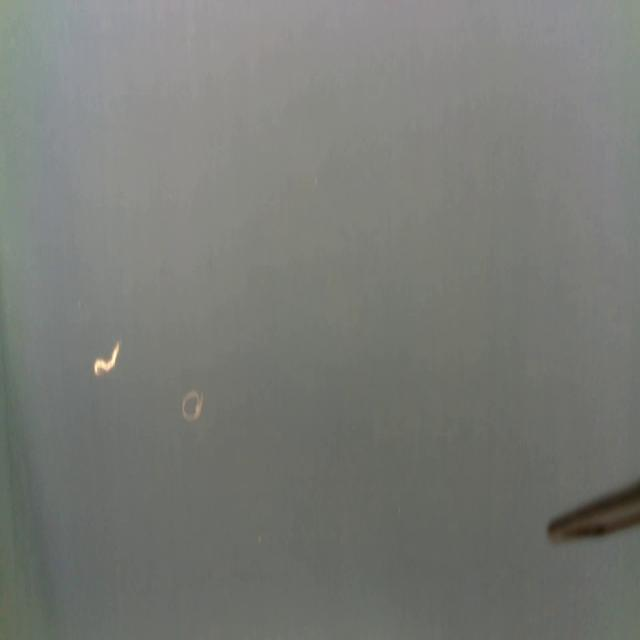hole: (94, 338, 122, 378)
